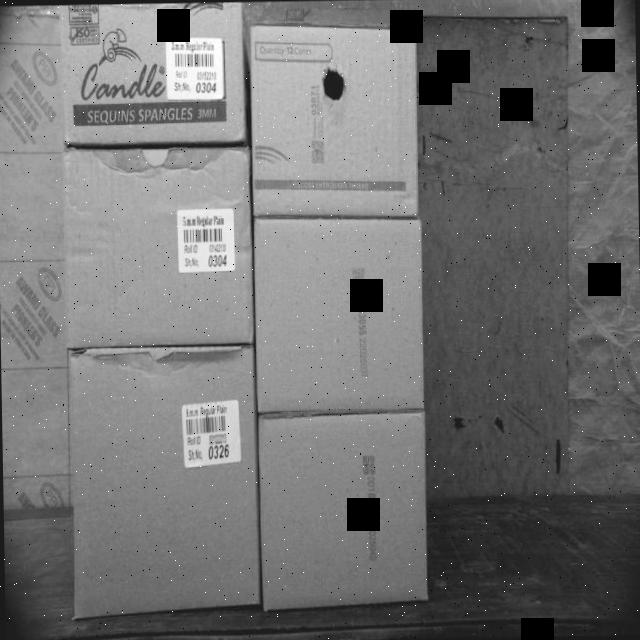box: (67, 349, 260, 615), (61, 146, 252, 348), (247, 22, 423, 220), (258, 412, 431, 612), (254, 218, 427, 412), (59, 2, 246, 142)
